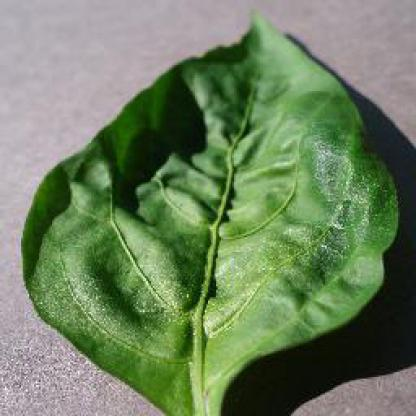bad leaf: (18, 24, 408, 408)
